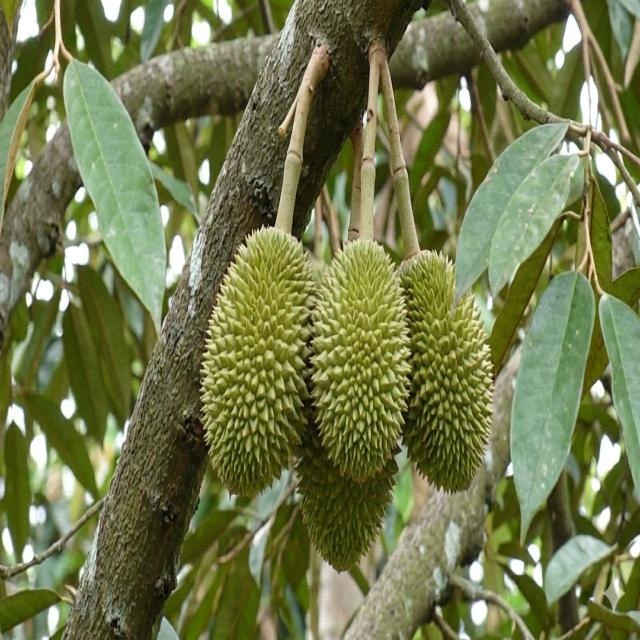immature: (200, 221, 320, 501), (302, 235, 414, 492), (398, 247, 495, 493), (399, 248, 450, 326)
